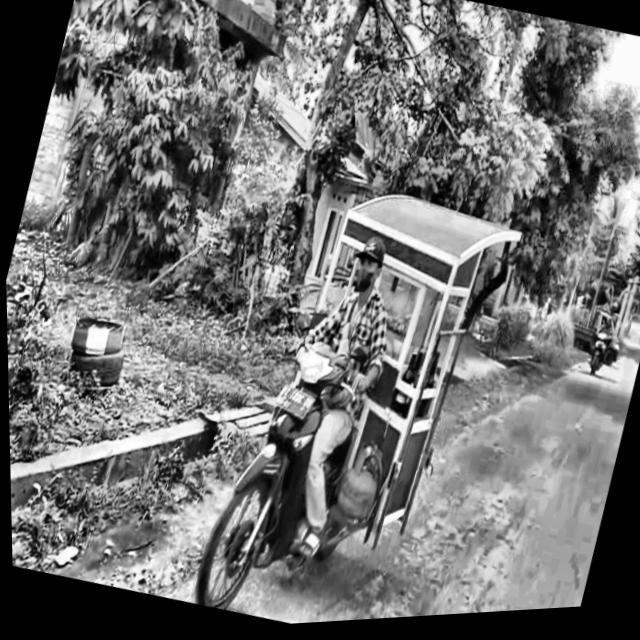motorcycle: (177, 316, 453, 632)
